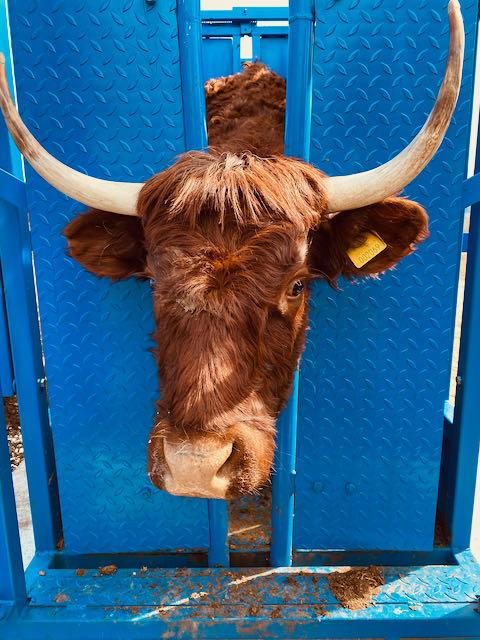muzzles: (139, 428, 267, 510)
